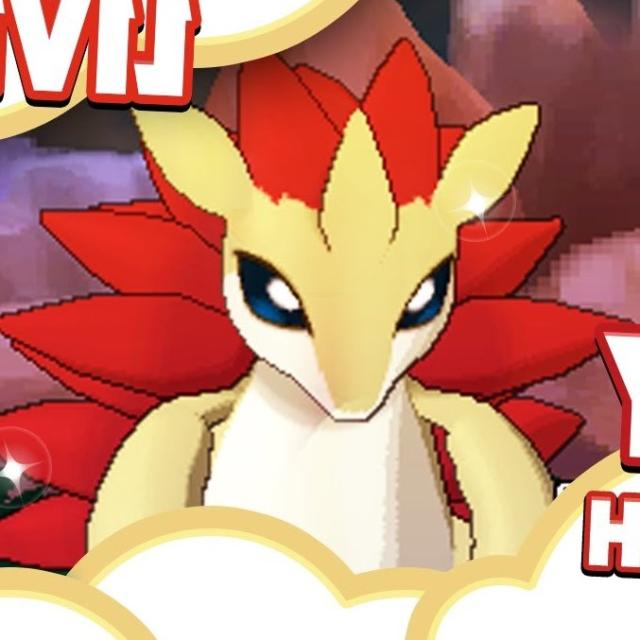Sandslash: (72, 95, 568, 550)
